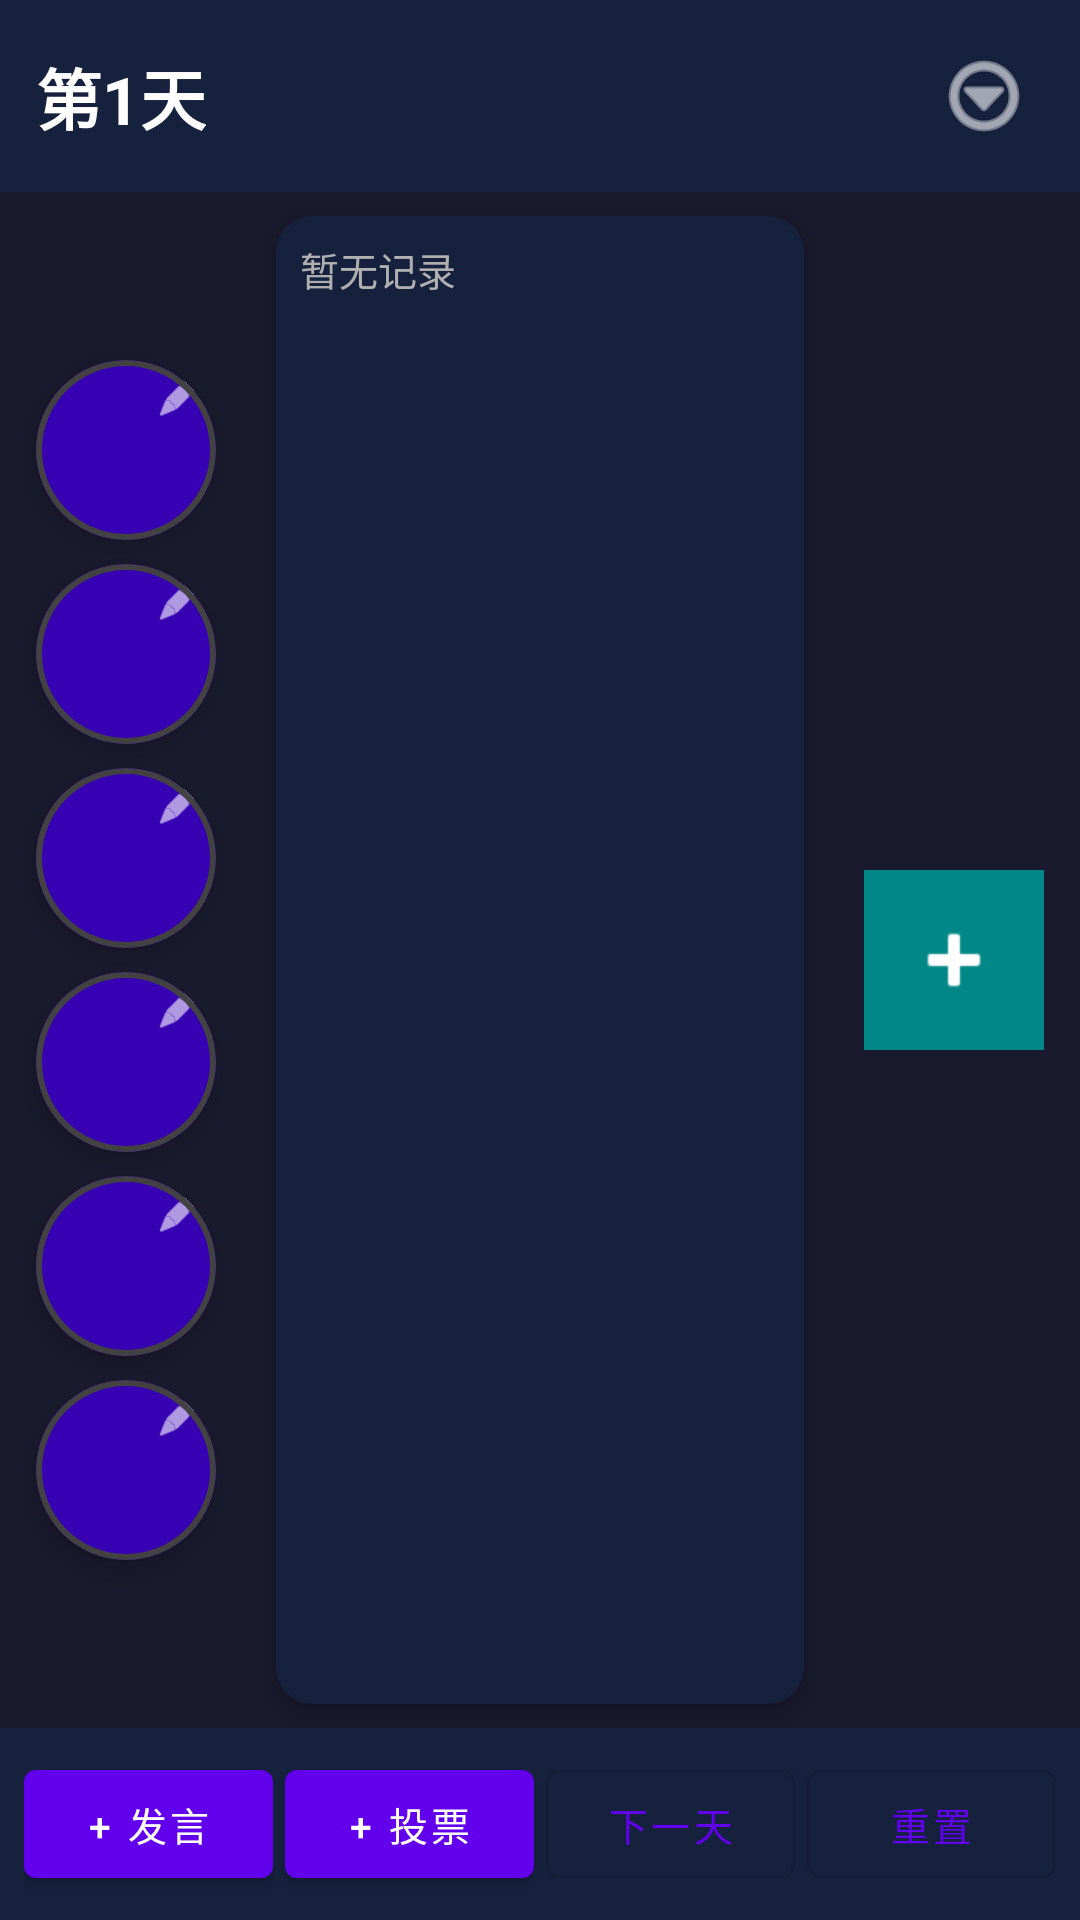

Point at icon controls on the screen. Image size 1080 x 1920, points as (x=x, y=y).
添加玩家: (x=954, y=960)
菜单: (x=984, y=96)
